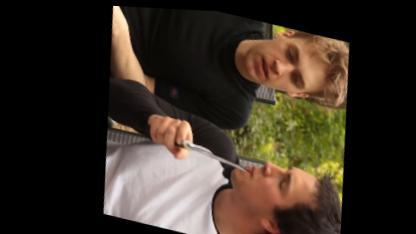knife: (148, 110, 260, 176)
